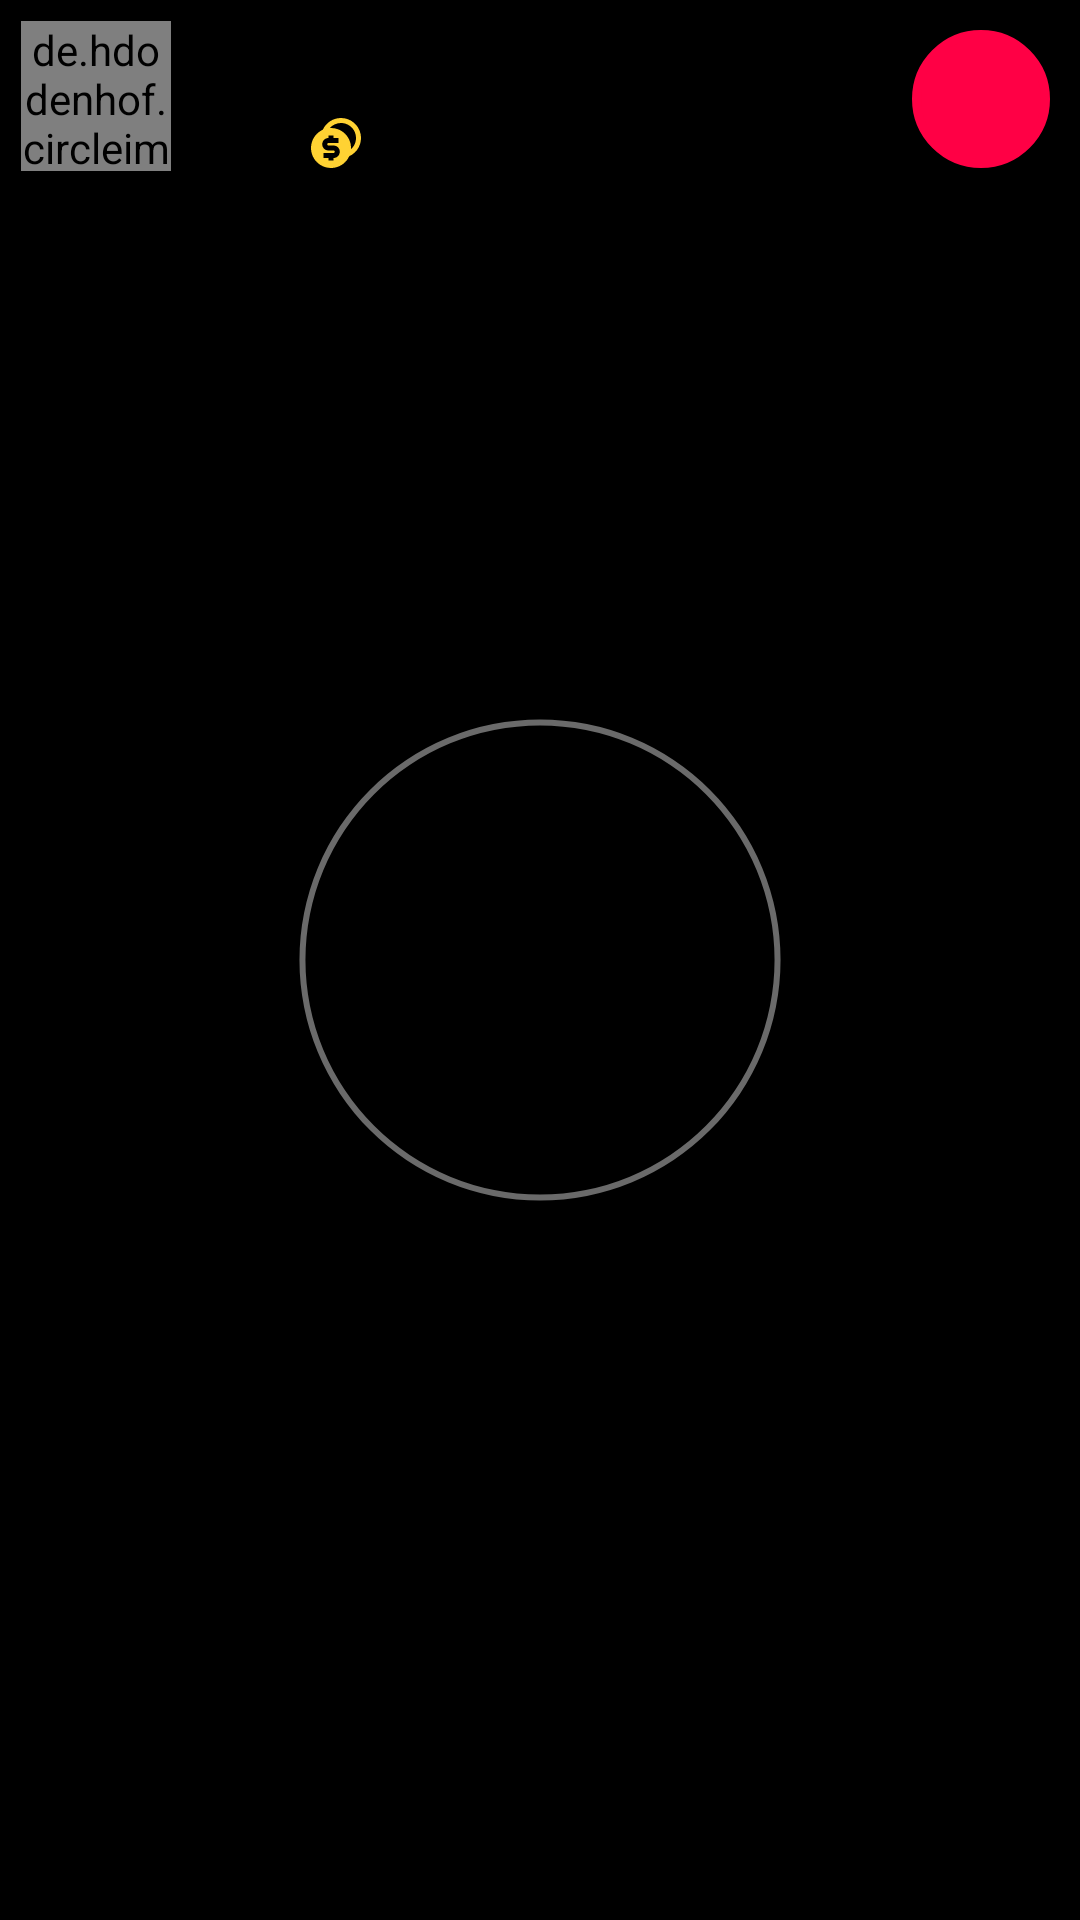

Icons on this 1080x1920 Android screen, each with the point to tap as (x=x, y=y):
coin: (x=336, y=143)
